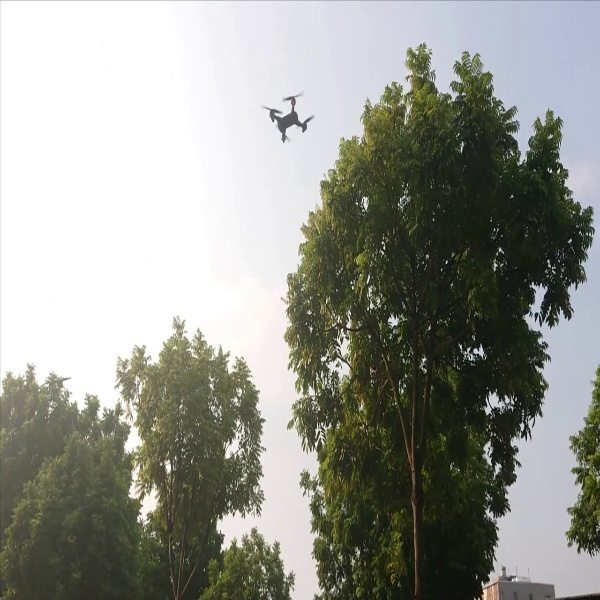drone: (258, 85, 314, 149)
